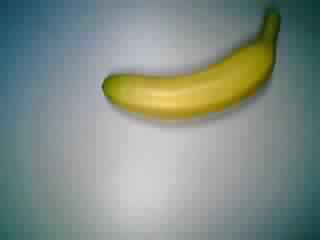banana: (100, 11, 283, 119)
